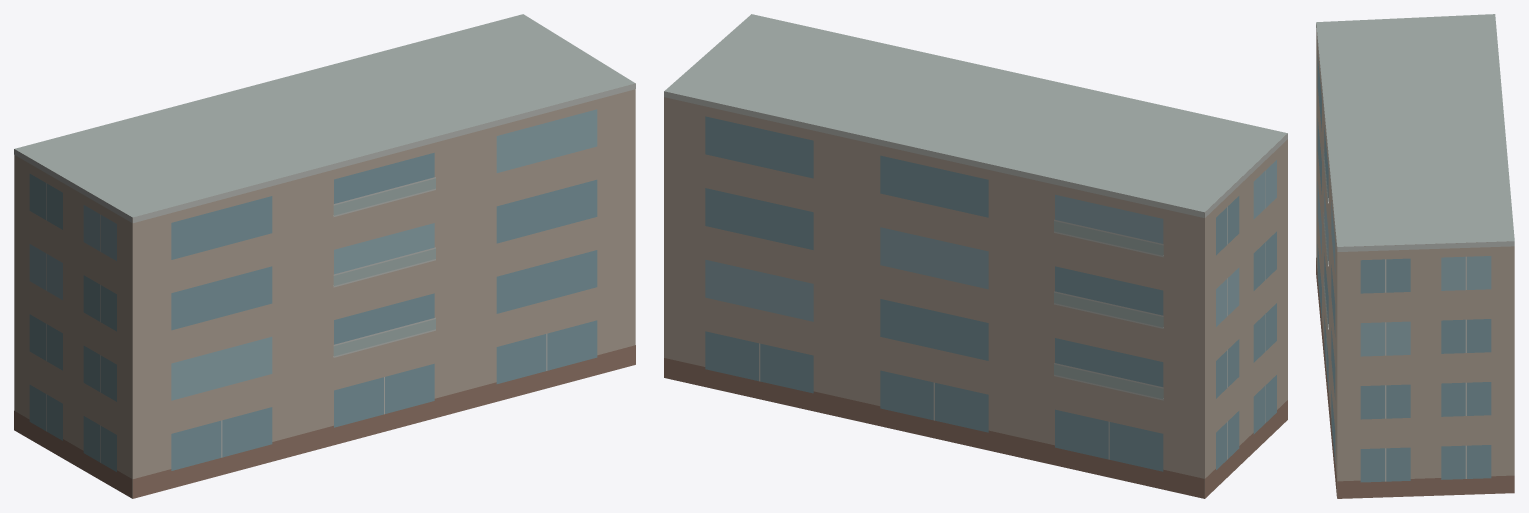
Rendered from survey-upis-32604399.glb.
3 renders of one model, left to right at view 1: azimuth 30°, elevation 25°; view 2: azimuth 150°, elevation 25°; view 3: azimuth 270°, elevation 25°, orthographic. The views are drawn at different scales.
Parts seen in each view (by area): view 1: survey-upis-32604399.tmp; view 2: survey-upis-32604399.tmp; view 3: survey-upis-32604399.tmp.
Part boxes in pixels (left/top/right/bottom): survey-upis-32604399.tmp: left=14, top=14, right=635, bottom=498; survey-upis-32604399.tmp: left=664, top=14, right=1287, bottom=498; survey-upis-32604399.tmp: left=1316, top=14, right=1514, bottom=498.
Bounding box in the file's own units: 23.62 × 11.9 × 8.51.
